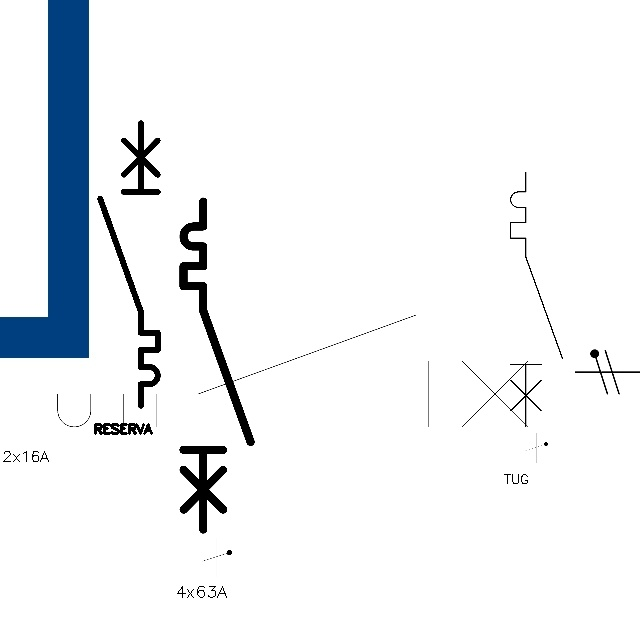interruptor_termomagnetico: (2, 301, 575, 441), (175, 193, 259, 538), (93, 116, 165, 413), (504, 166, 569, 433)
